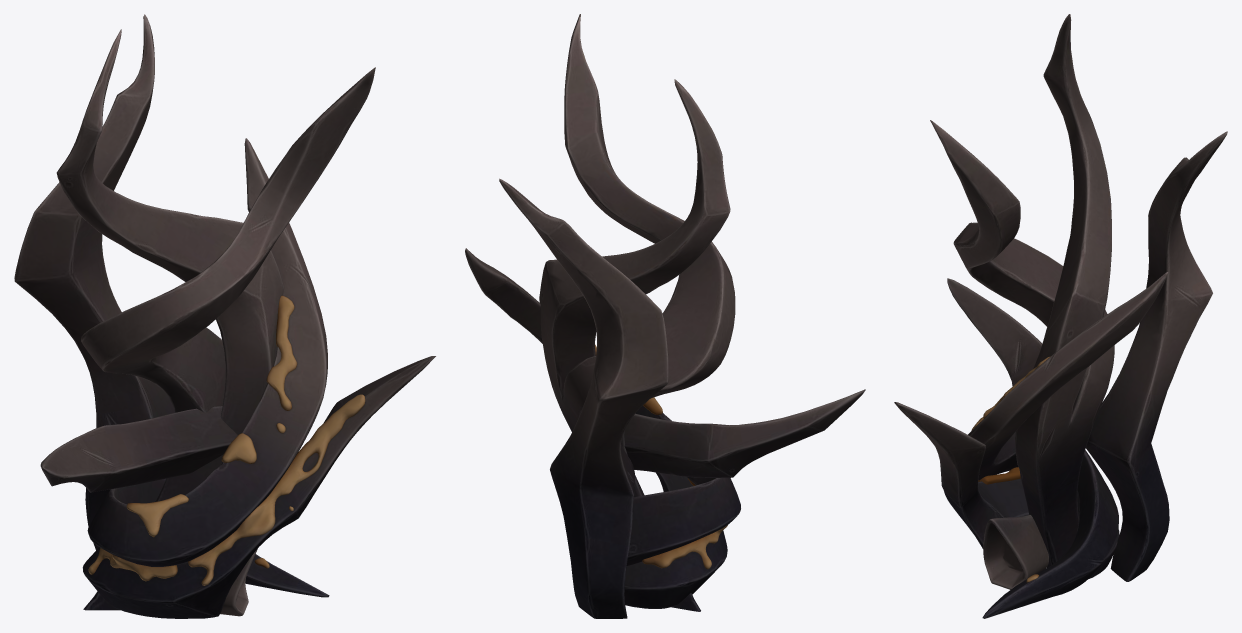
File: obsidian_tower_01_a.glb
The picture shows the model from 3 angles, left to right: view 1: azimuth 30°, elevation 25°; view 2: azimuth 150°, elevation 25°; view 3: azimuth 270°, elevation 25°; orthographic projection. The views are drawn at different scales.
Parts seen in each view (by area): view 1: SM_KC_OBSIDIAN_TOWER_01_A; view 2: SM_KC_OBSIDIAN_TOWER_01_A; view 3: SM_KC_OBSIDIAN_TOWER_01_A.
Boxes of the visible parts, bbox=[...] form: SM_KC_OBSIDIAN_TOWER_01_A: bbox=[14, 14, 435, 618]; SM_KC_OBSIDIAN_TOWER_01_A: bbox=[465, 14, 865, 618]; SM_KC_OBSIDIAN_TOWER_01_A: bbox=[894, 14, 1227, 618].
Size of the model in its own units: 14.91 by 22.47 by 12.72.
Materials: 1 (1 with a texture image).
